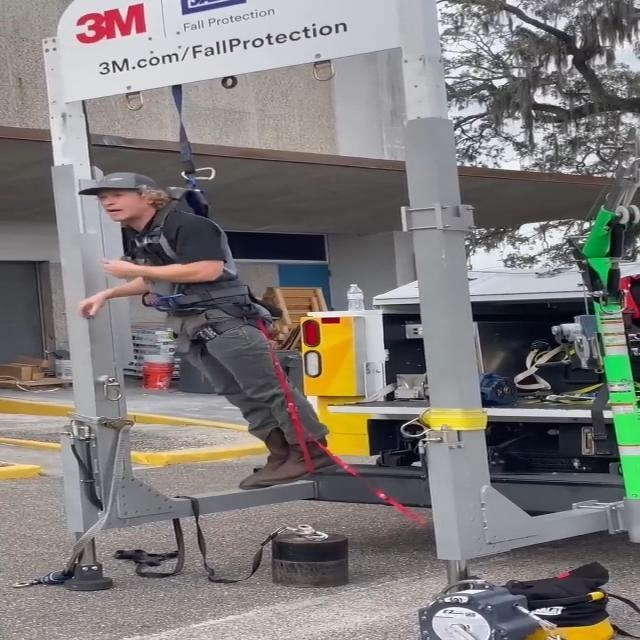Arnes_seguridad: (110, 174, 290, 353)
